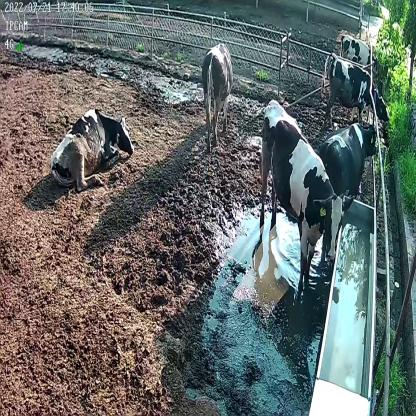cow: (258, 99, 356, 292), (49, 108, 135, 190), (322, 51, 391, 125), (320, 122, 378, 206), (200, 40, 233, 155), (339, 31, 380, 77)
